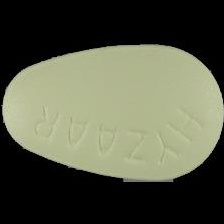0006-0747: (0, 0, 224, 224)
